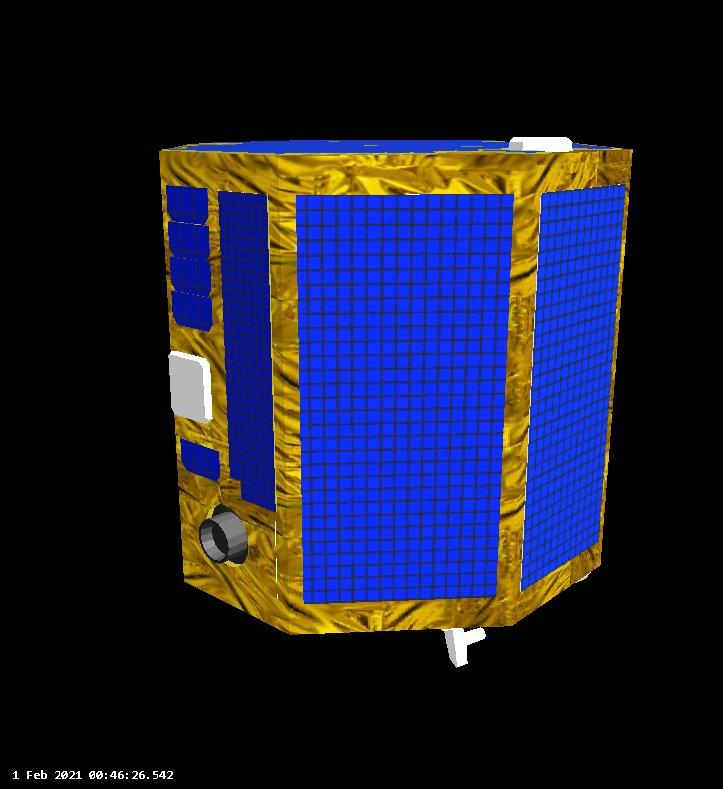body: (157, 138, 635, 638)
solar: (294, 191, 518, 605), (519, 181, 629, 596), (217, 189, 278, 514), (168, 140, 613, 156), (170, 287, 216, 332), (180, 435, 224, 482), (164, 183, 209, 225), (169, 254, 213, 294), (167, 221, 211, 259)
thruster: (198, 512, 251, 566)
